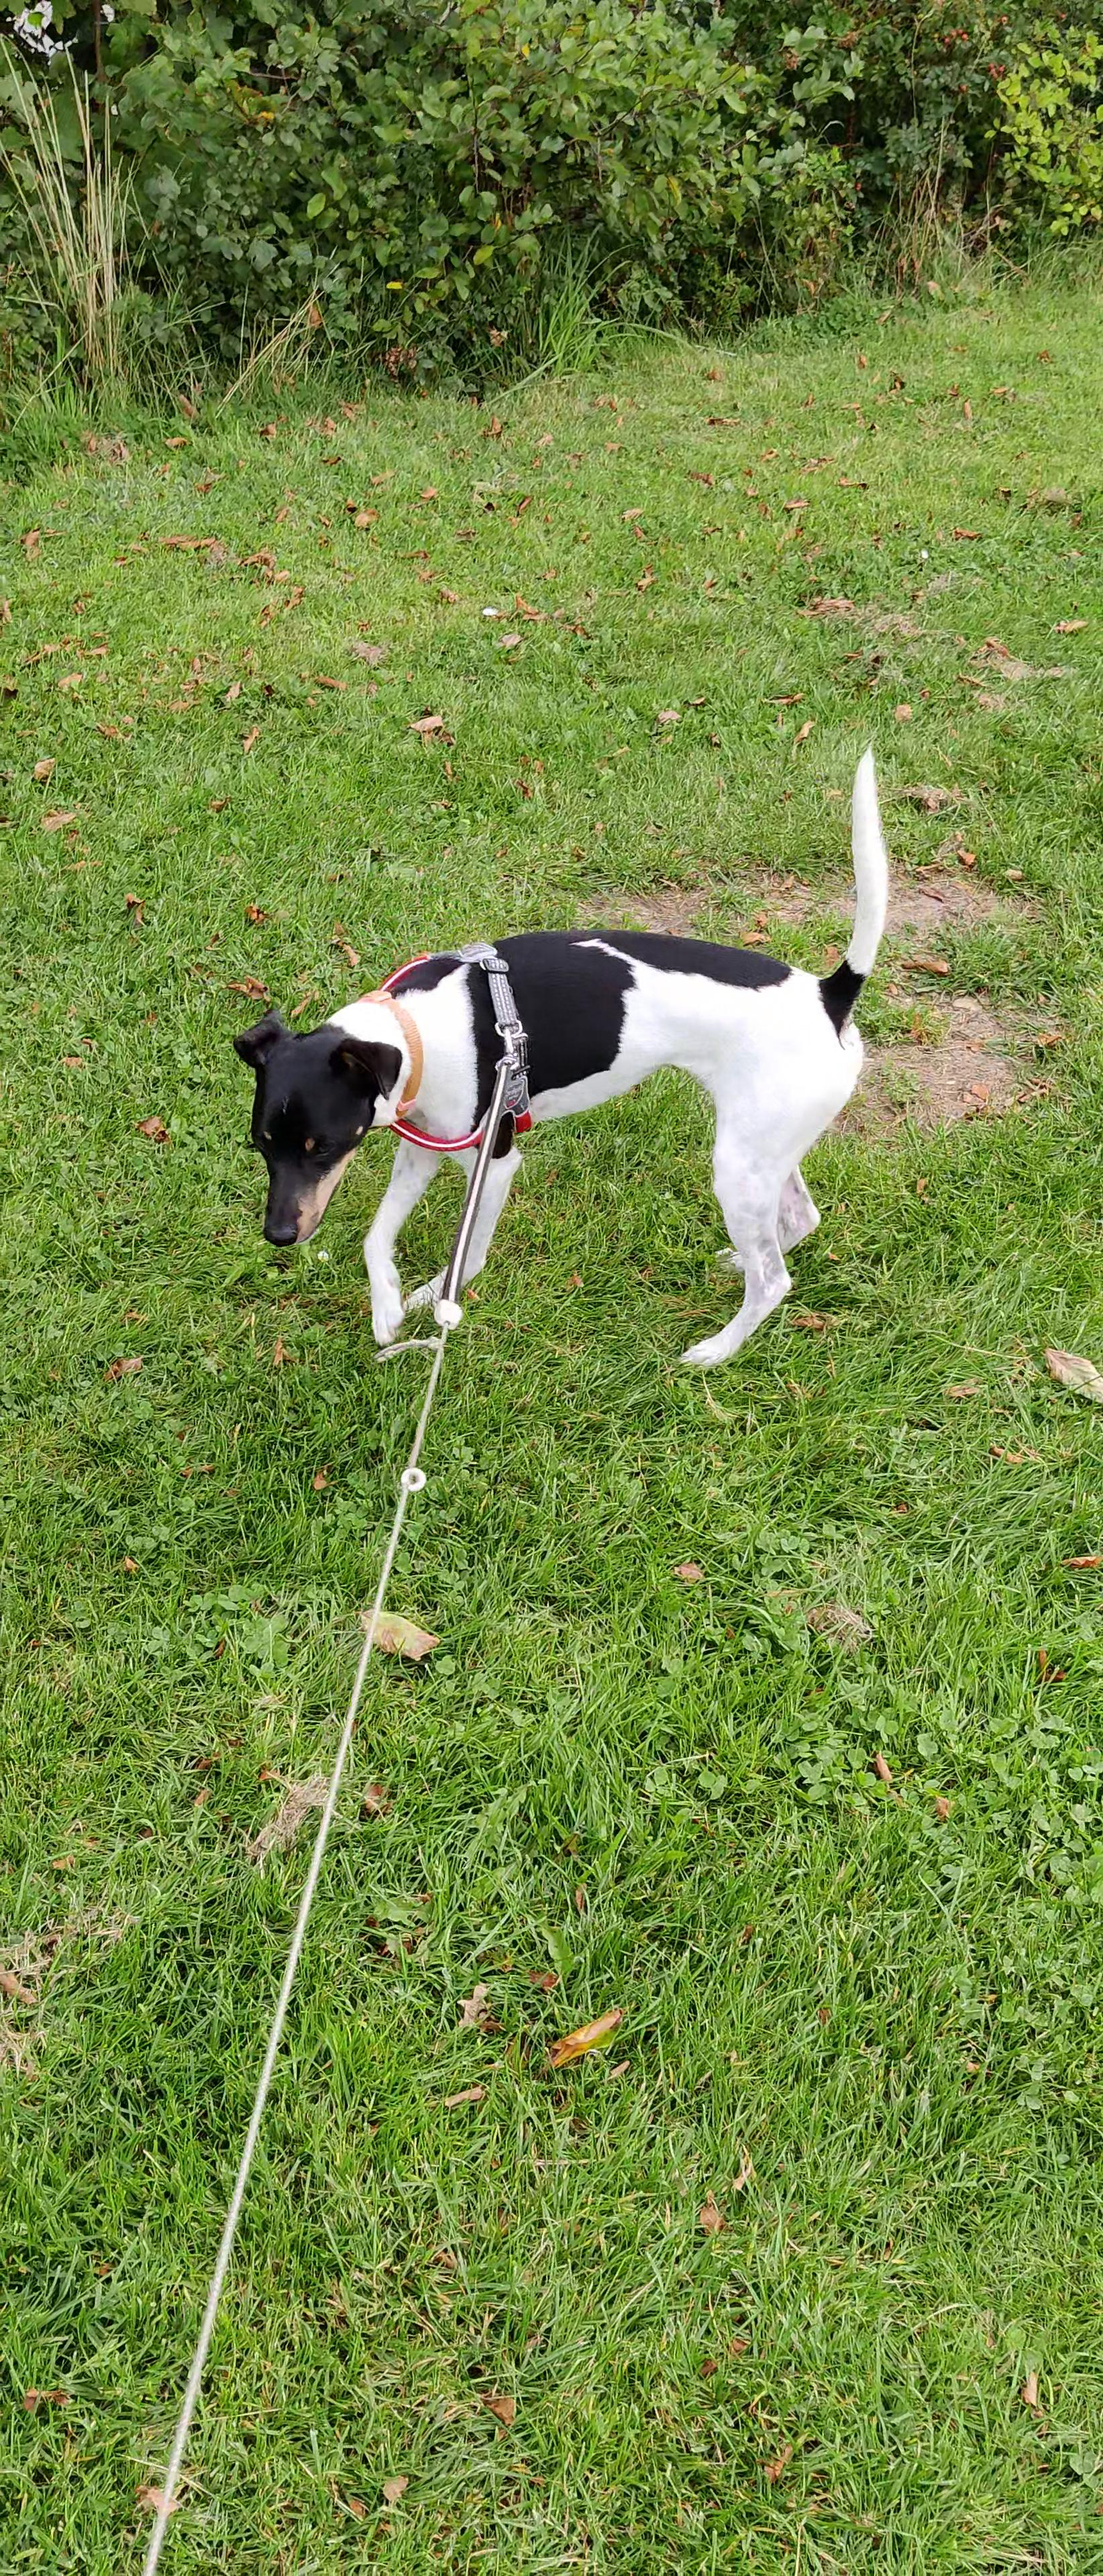Dog: (199, 733, 917, 1373)
